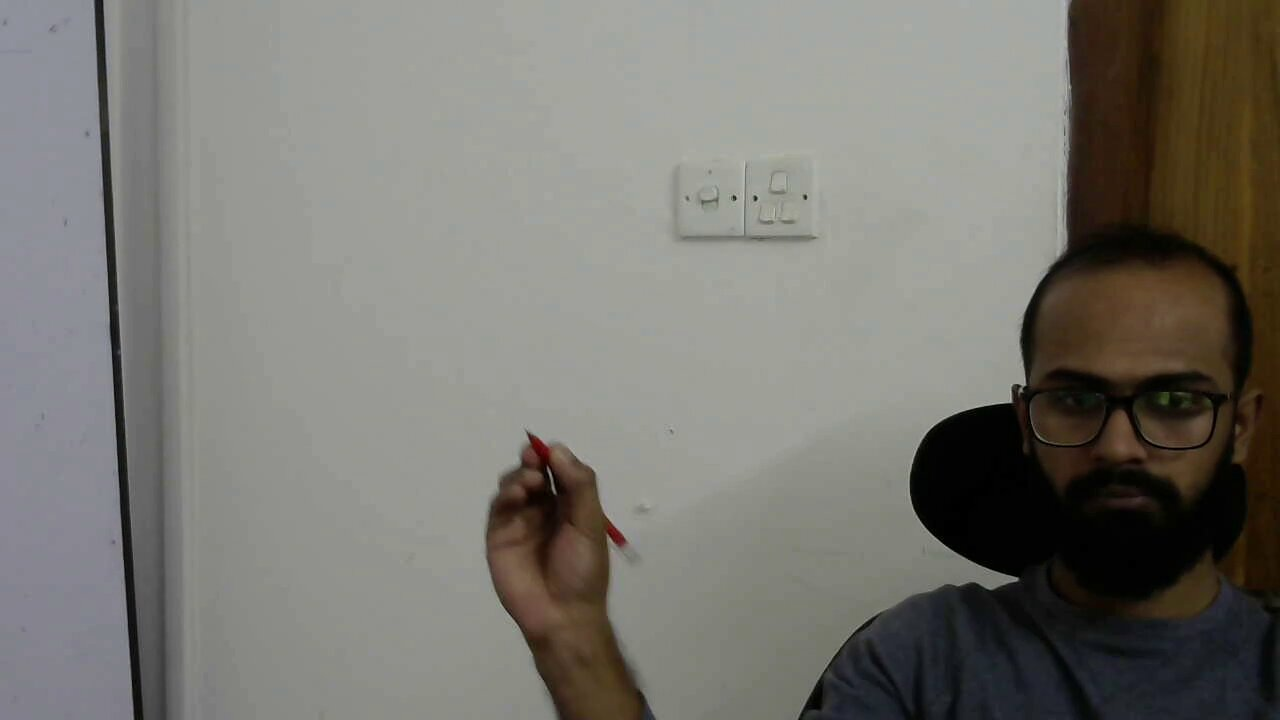pointer: (485, 439, 610, 584)
